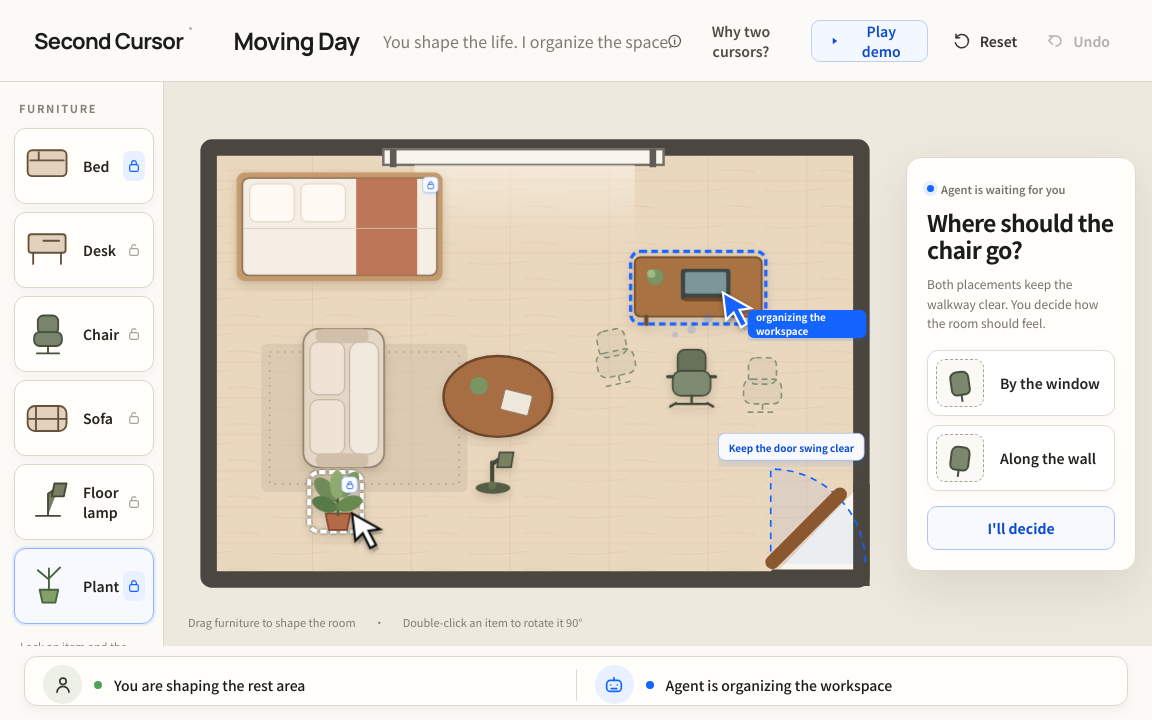
Scenario: Second Cursor: Moving Day › lets the human resolve an Agent handoff
Click the button "By the window" at (1021, 383), box [927,350,1115,416]
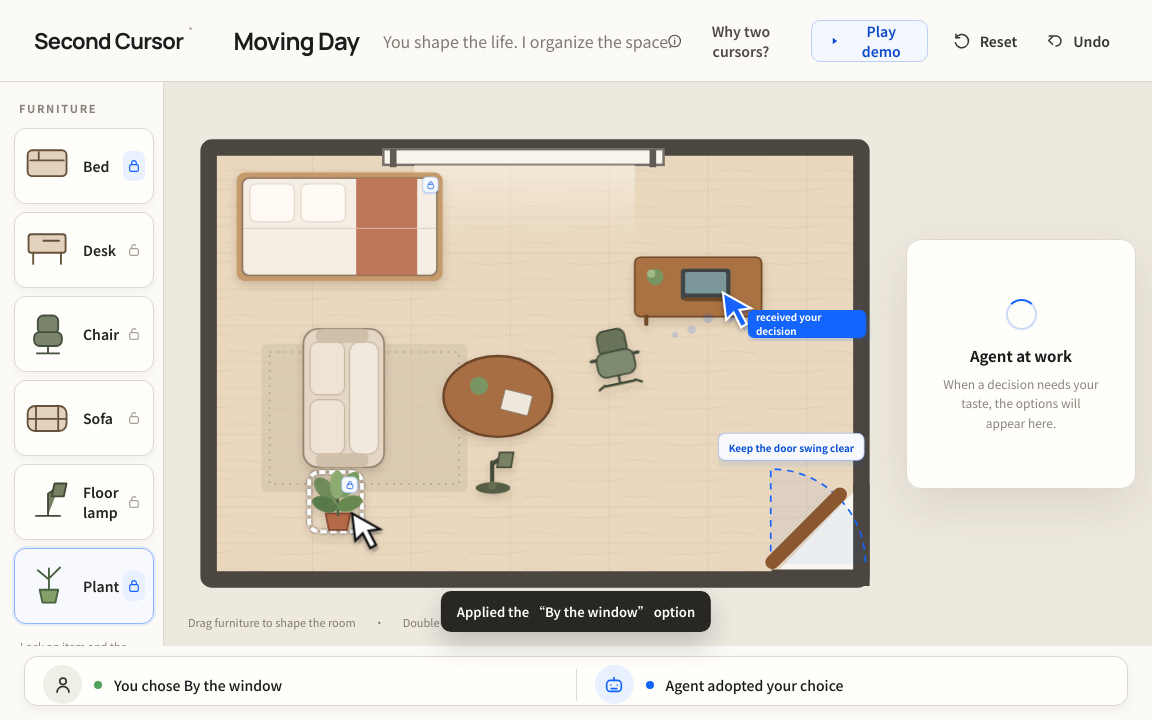
Expected: the heading "Where should the chair go?" is gone
Expected: the text "You chose By the window" is shown, [114,674,282,694]
